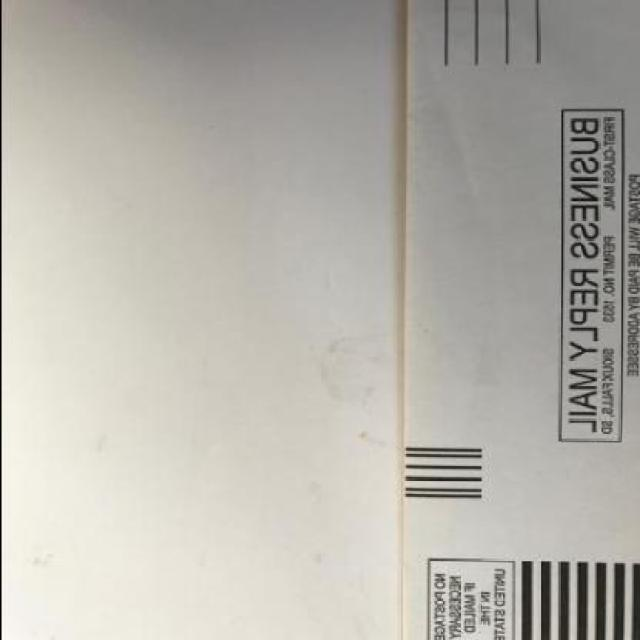CARDBOARD: (401, 1, 638, 640)
PAPER: (403, 1, 638, 640)
